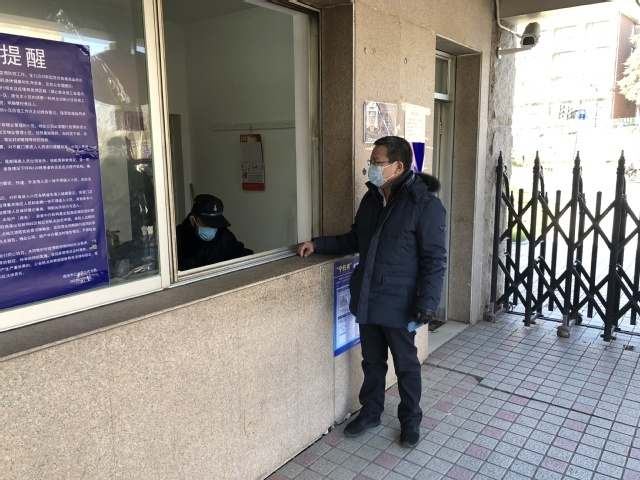correctlyWear: (366, 152, 403, 185), (187, 212, 221, 240)
